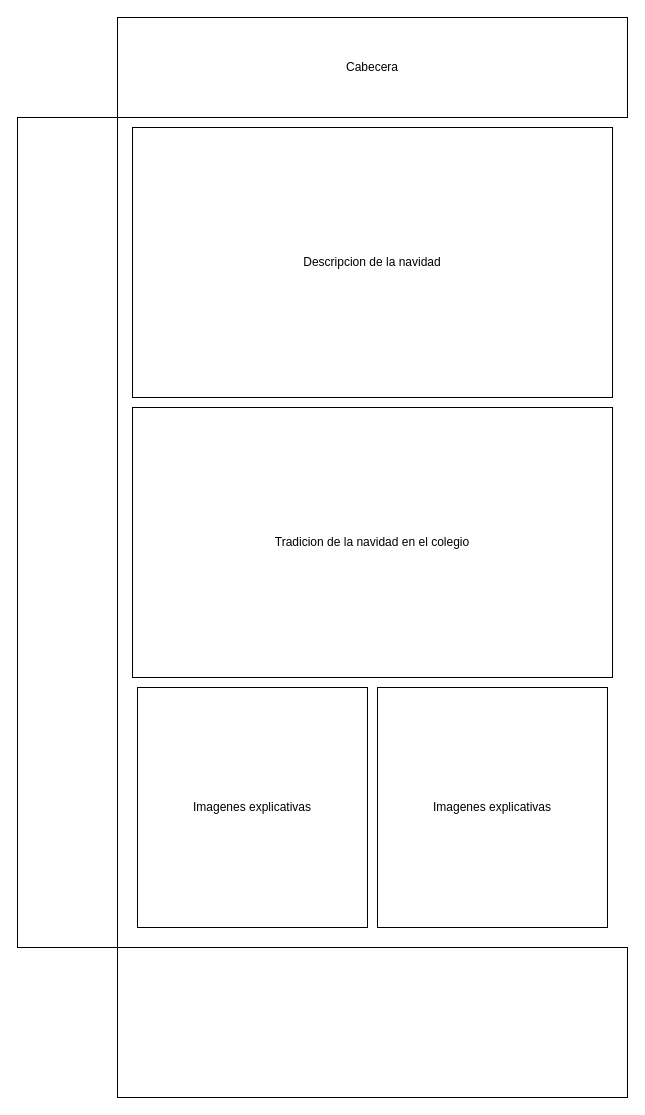
Some shapes in this 645 by 1115 pixel diagram are drawn without their labels. The shapes that lost their labels are listed below. From the top down, each one's box as (x1, y1, x2, y2) in pixels, then its label:
(16, 116, 118, 948): Menu de navegacion
(116, 946, 628, 1098): Pie de pagina
